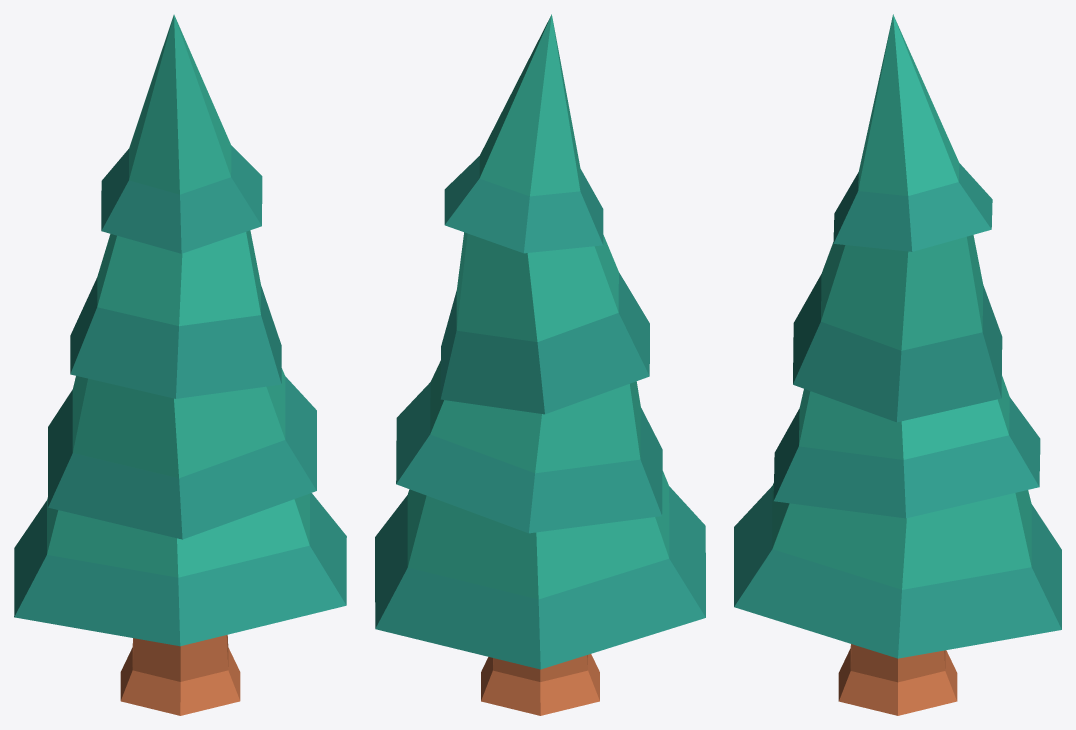
File: pineCrooked.dae
3 views of the same model, side by side, from view 1: azimuth 30°, elevation 25°; view 2: azimuth 150°, elevation 25°; view 3: azimuth 270°, elevation 25° (orthographic).
Visible parts, largest first — view 1: pineCrooked; view 2: pineCrooked; view 3: pineCrooked.
Boxes of the visible parts, box(x1,y1,x2,y2) form: pineCrooked: box(14, 14, 346, 715); pineCrooked: box(375, 14, 705, 715); pineCrooked: box(734, 14, 1061, 715).
Size of the model in its own units: 1.18 by 2.29 by 1.02.
